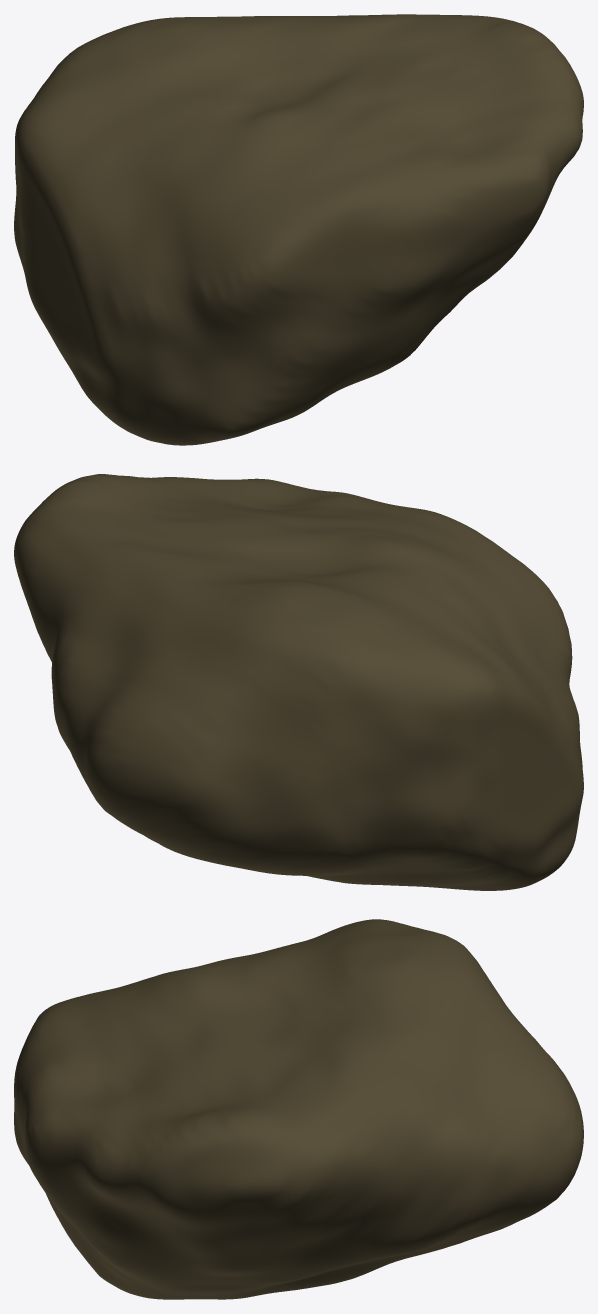
File: Segmentation.obj
3 views of the same model, one above another, from view 1: azimuth 30°, elevation 25°; view 2: azimuth 150°, elevation 25°; view 3: azimuth 270°, elevation 25° (orthographic). The views are drawn at different scales.
Parts seen in each view (by area): view 1: grp1; view 2: grp1; view 3: grp1.
Boxes of the visible parts, x1,y1,x2,y2 form: grp1: [14, 14, 583, 445]; grp1: [14, 474, 583, 890]; grp1: [14, 919, 583, 1299].
Bounding box in the file's own units: 38.42 × 23.26 × 35.99.
